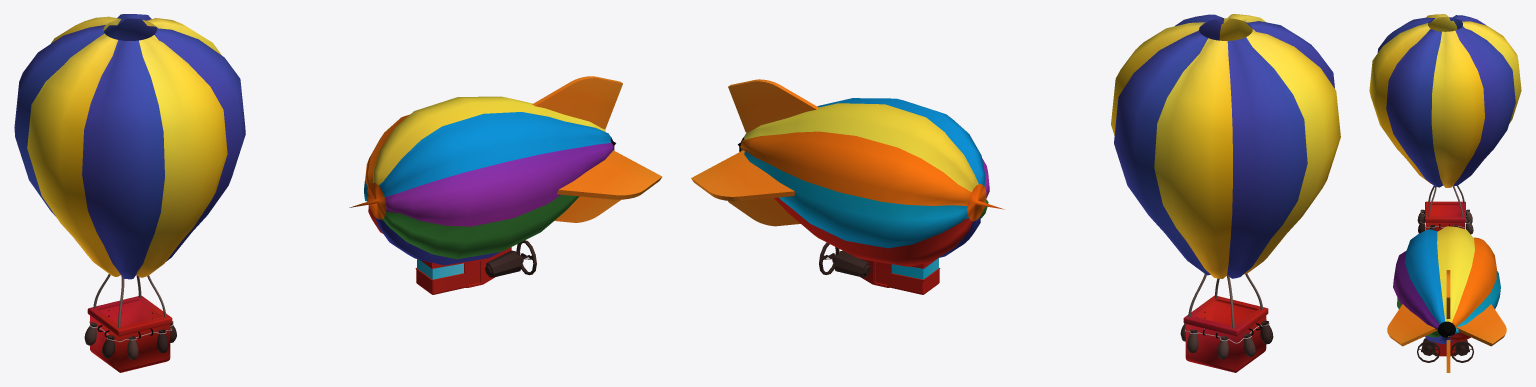
File: Balao.fbx
3 views of the same model, side by side, from view 1: azimuth 30°, elevation 25°; view 2: azimuth 150°, elevation 25°; view 3: azimuth 270°, elevation 25° (orthographic). The views are drawn at different scales.
Visible parts, largest first — view 1: baloon, dirigible_plane; view 2: baloon, dirigible_plane; view 3: baloon, dirigible_plane.
Boxes of the visible parts, x1,y1,x2,y2 form: baloon: (14, 14, 245, 372); dirigible_plane: (349, 76, 662, 294); baloon: (1111, 14, 1340, 372); dirigible_plane: (691, 79, 1004, 294); baloon: (1369, 14, 1521, 234); dirigible_plane: (1387, 226, 1506, 372).
Bounding box in the file's own units: 367 × 194 × 123.
